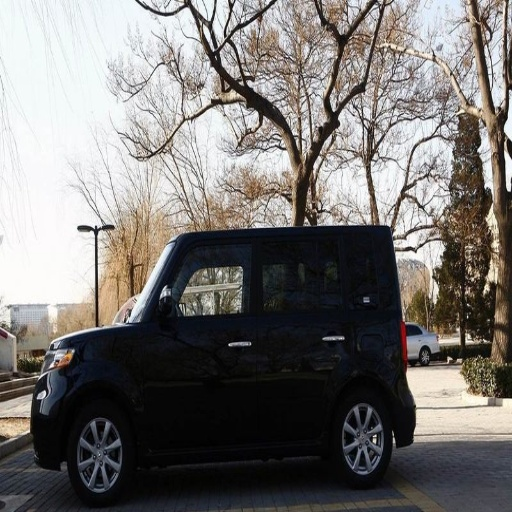front_left_door: (146, 255, 258, 451)
trunk: (358, 320, 393, 379)
